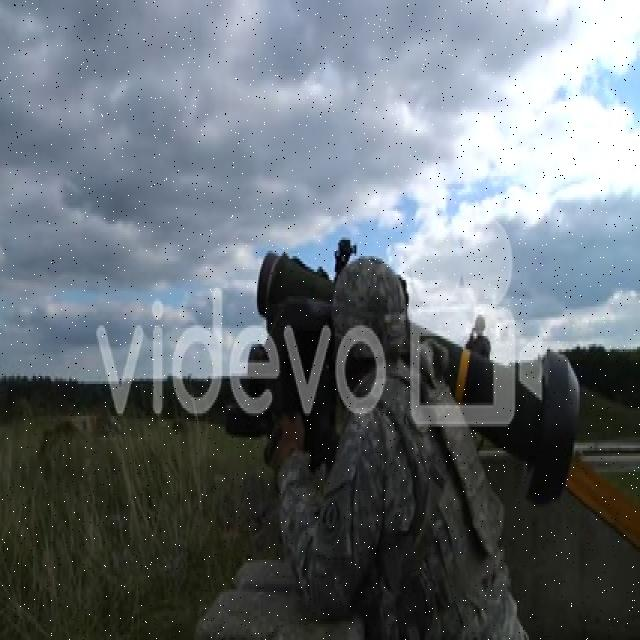bazooka: (253, 240, 590, 522)
